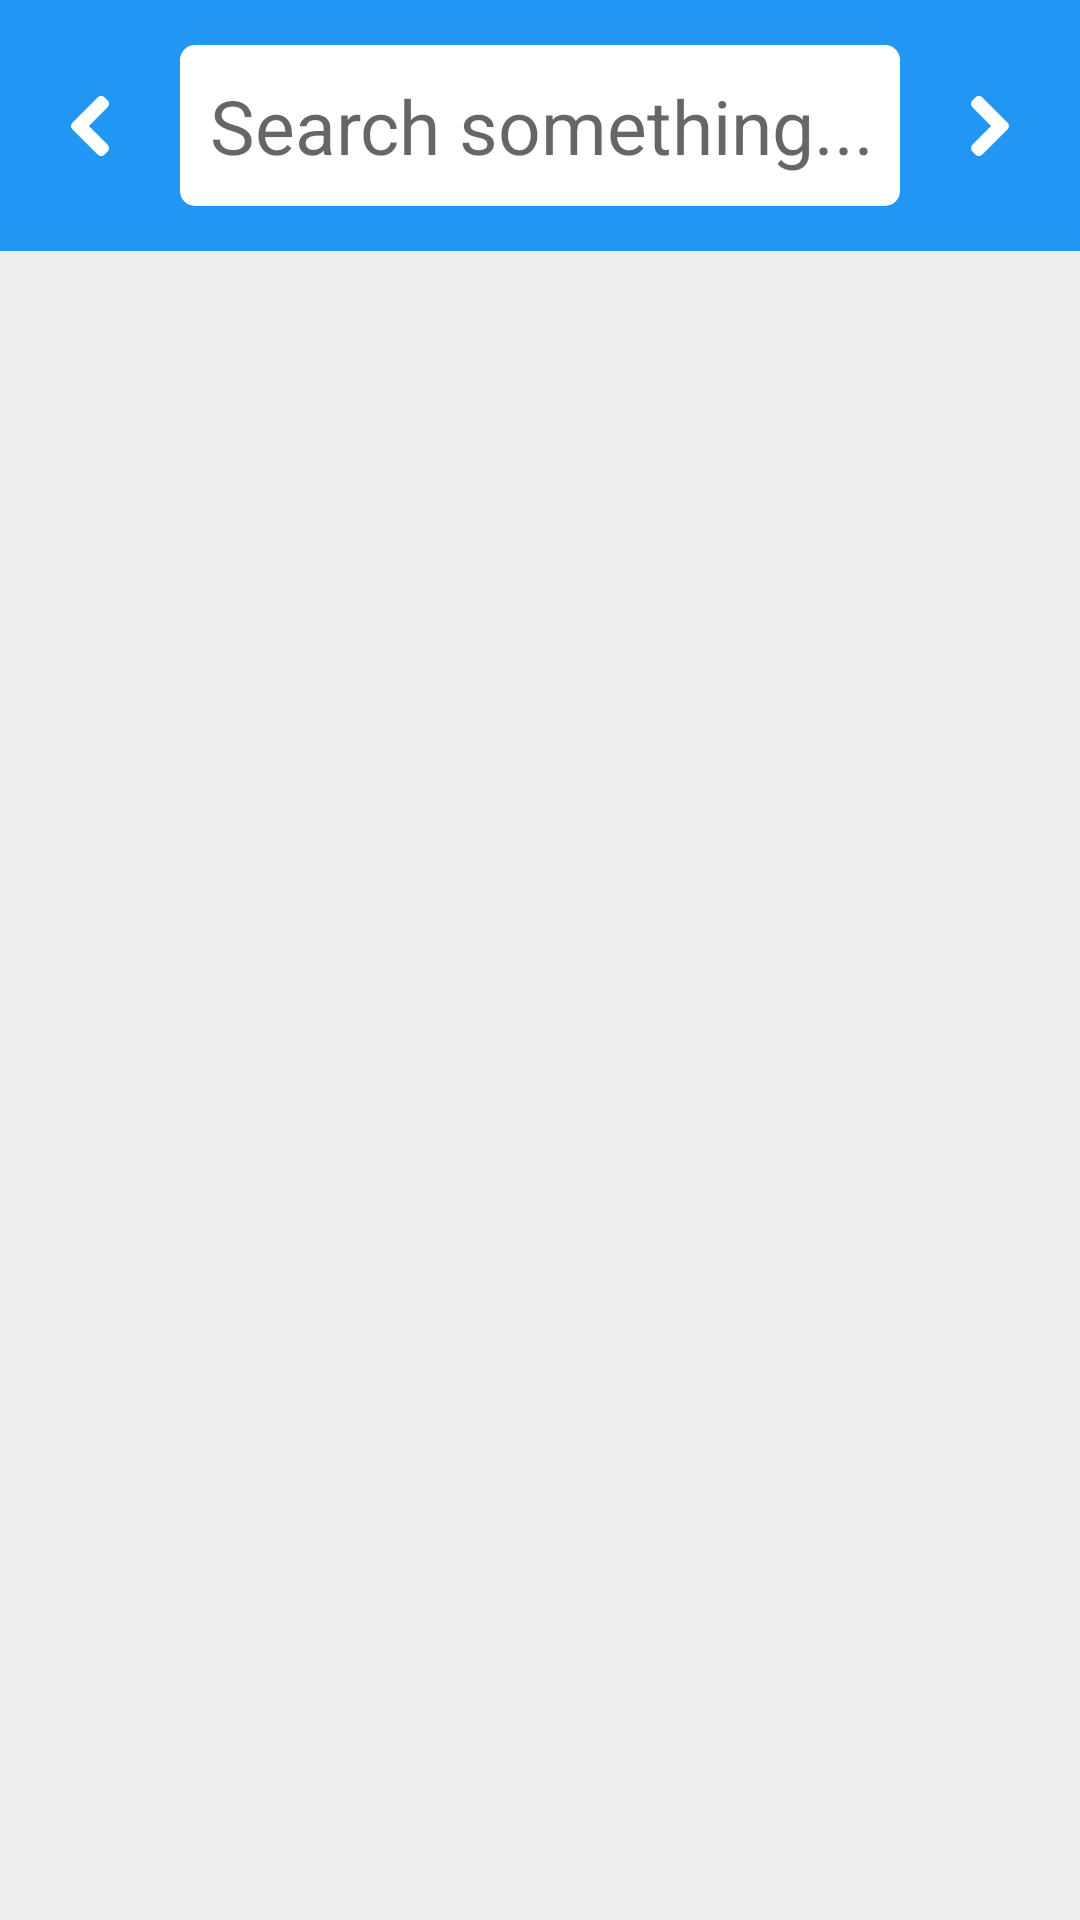

Locate icon controls on the screen. Image size 1080 x 1920, boxes as (x1, y1, x2, y2).
arrow left: (71, 96, 109, 156)
arrow right: (971, 96, 1009, 156)
